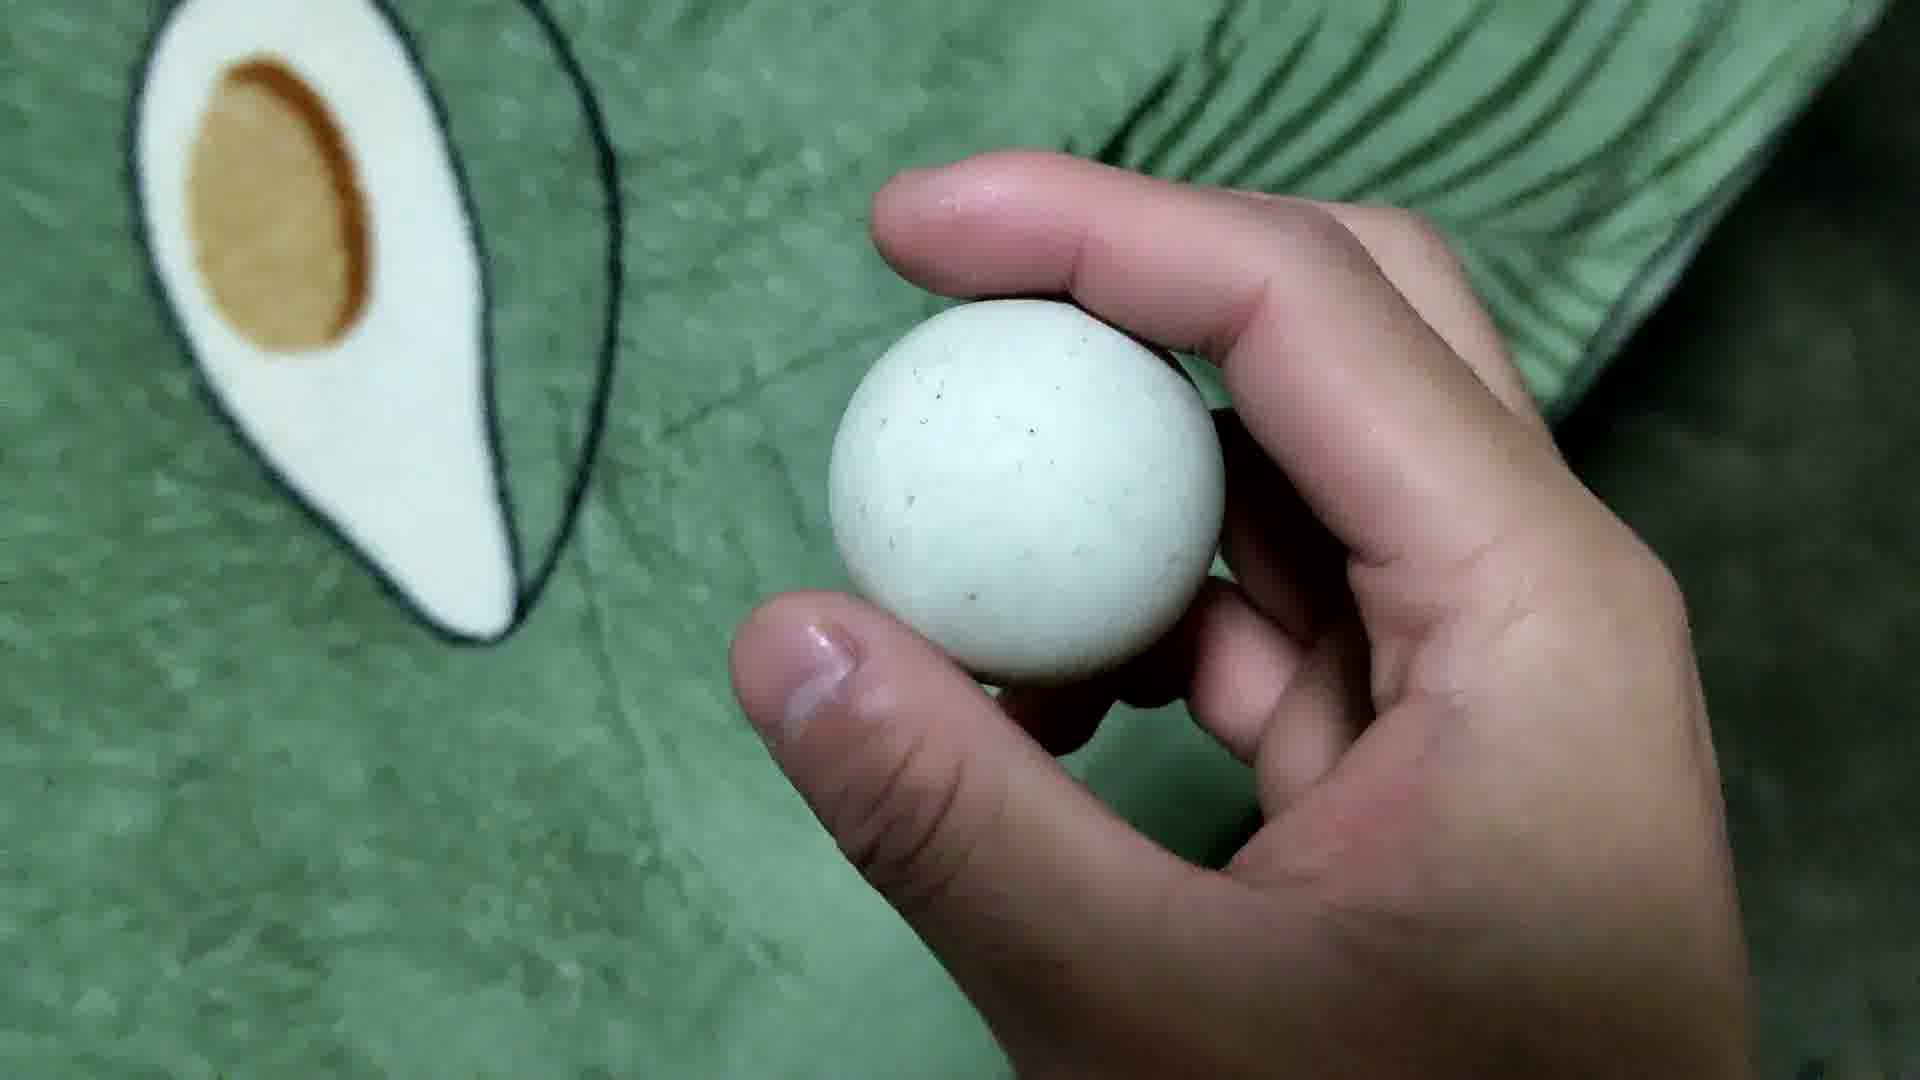Ball: (827, 298, 1230, 676)
